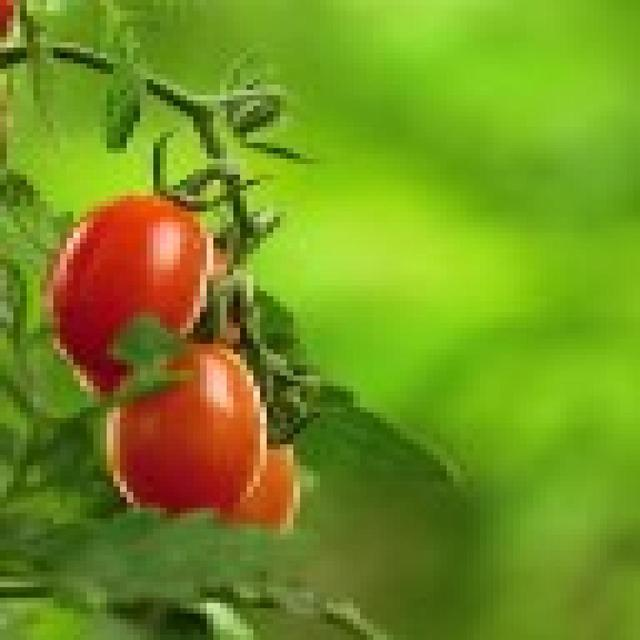Healthy Fruit: (80, 119, 135, 280)
